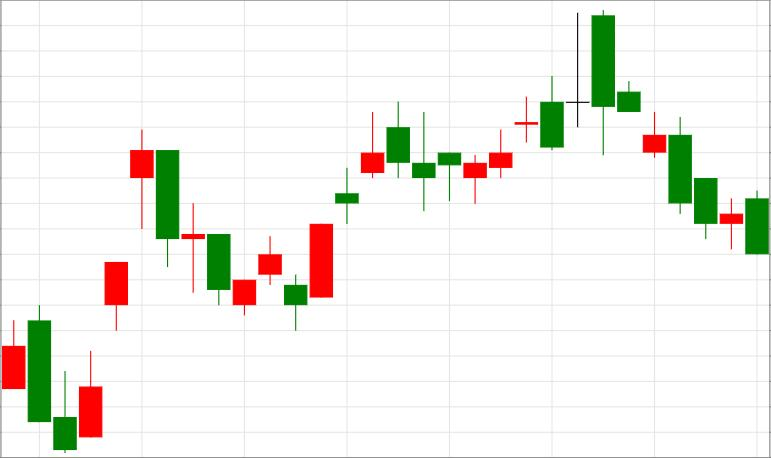hanging_man_fall: (54, 131, 153, 453)
